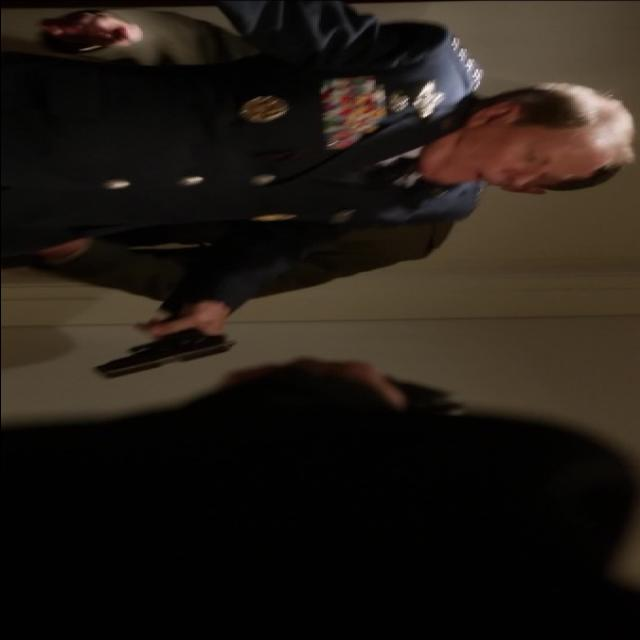weapons: (65, 298, 278, 400)
